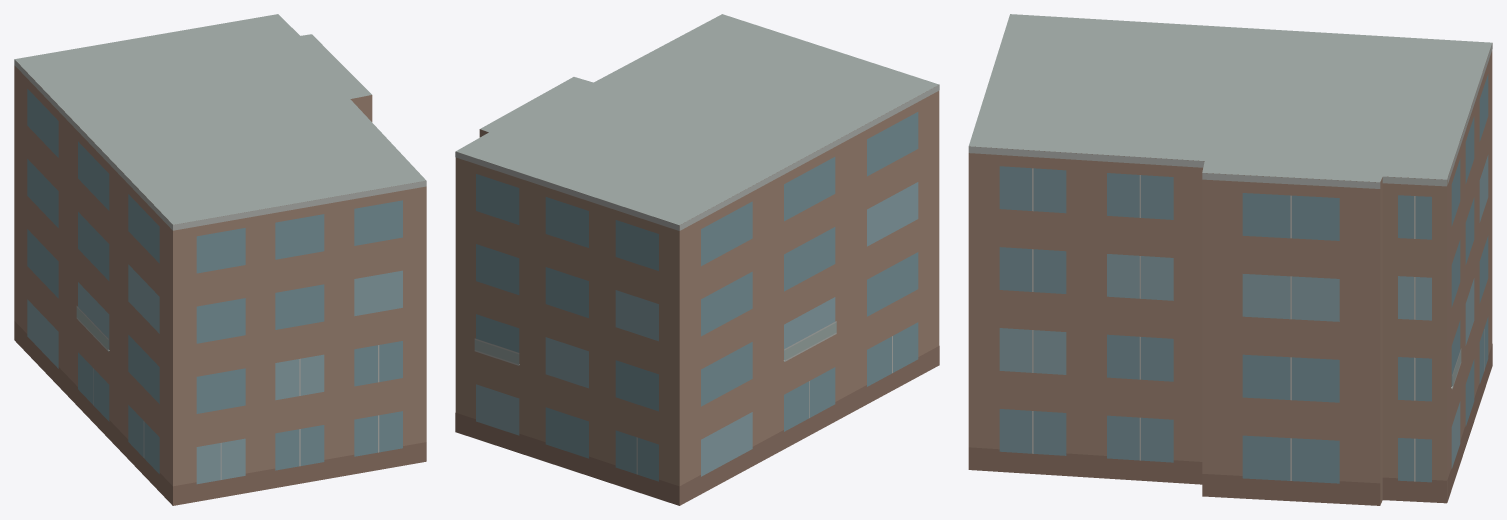
The model's file is survey-upis-32776154.glb.
3 views of the same model, side by side, from view 1: azimuth 30°, elevation 25°; view 2: azimuth 150°, elevation 25°; view 3: azimuth 270°, elevation 25° (orthographic). The views are drawn at different scales.
Parts seen in each view (by area): view 1: survey-upis-32776154.tmp; view 2: survey-upis-32776154.tmp; view 3: survey-upis-32776154.tmp.
Part boxes in pixels (left/top/right/bottom): survey-upis-32776154.tmp: left=14, top=14, right=426, bottom=505; survey-upis-32776154.tmp: left=455, top=14, right=939, bottom=505; survey-upis-32776154.tmp: left=968, top=14, right=1492, bottom=505.
Bounding box in the file's own units: 13.06 × 11.7 × 17.18.
